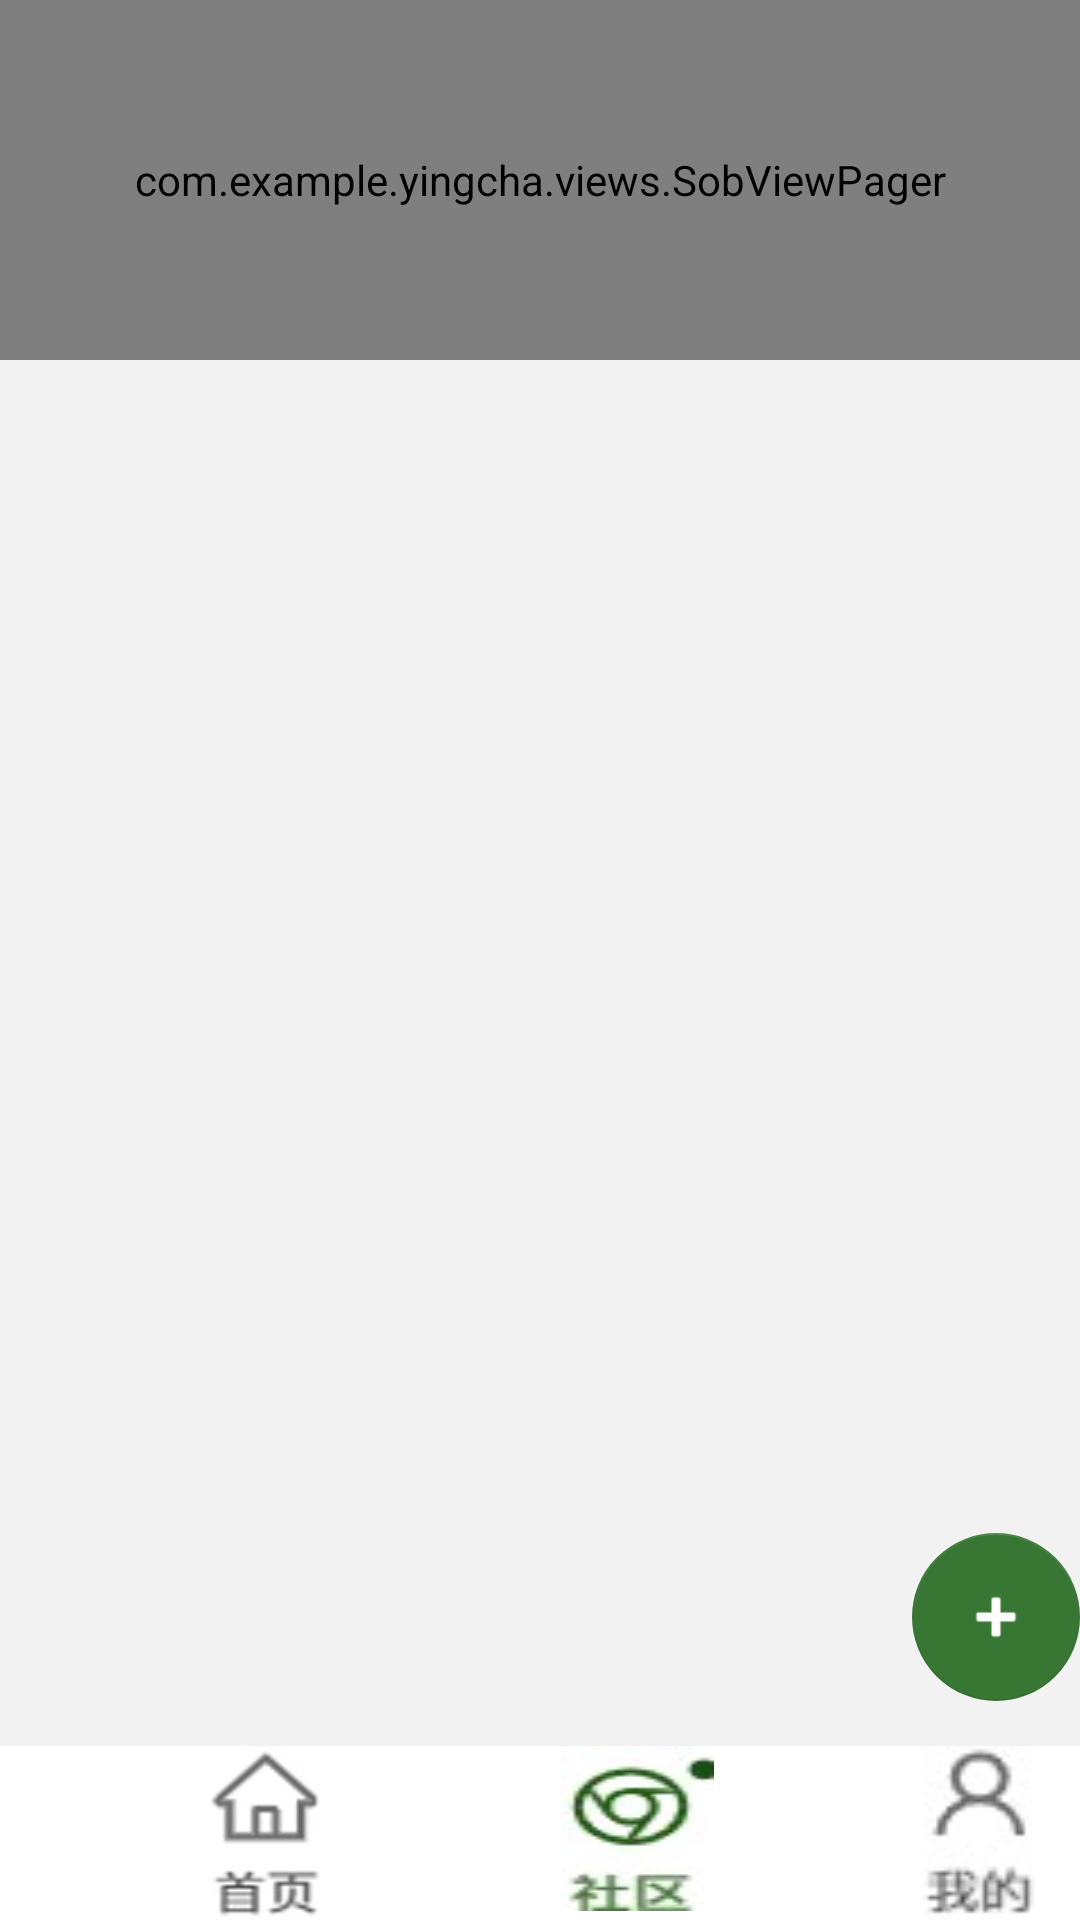

Where icons sit on this 1080px x 1920px app screen, as (x1,y1,x2,y2):
add: (912,1533,1080,1701)
